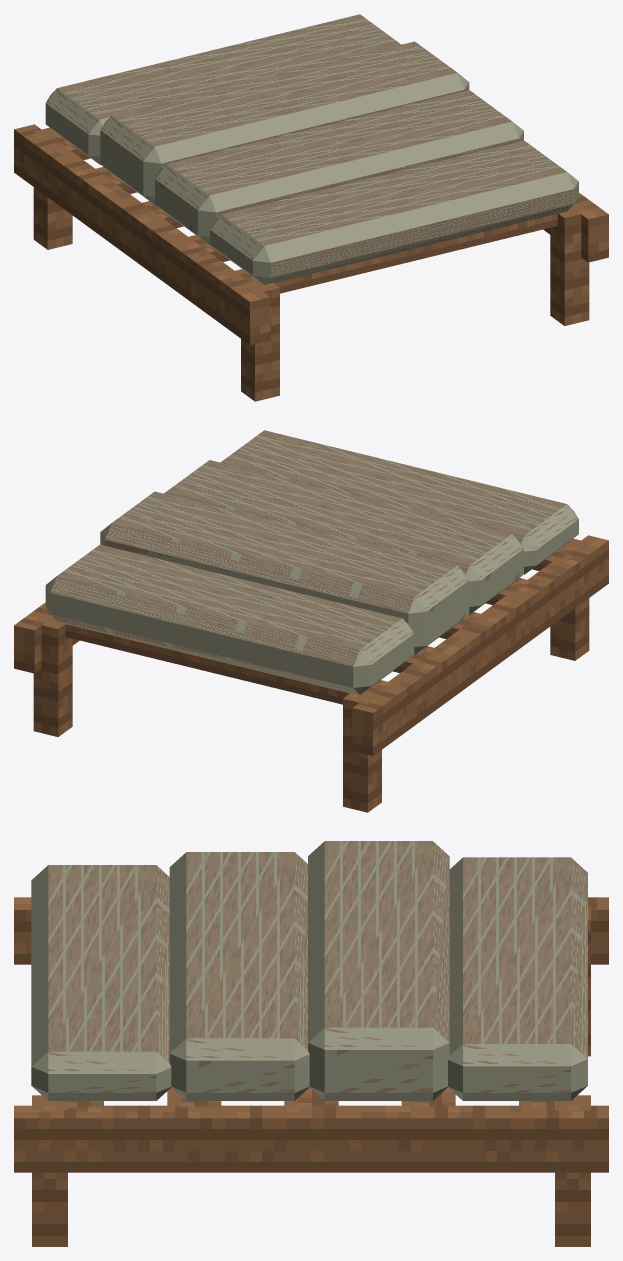
Rendered from f_makeshift_bed.glb.
3 renders of one model, top to bottom at view 1: azimuth 30°, elevation 25°; view 2: azimuth 150°, elevation 25°; view 3: azimuth 270°, elevation 25°, orthographic. The views are drawn at different scales.
Visible parts, largest first — view 1: block_stuffed-mattress-section (×4), block_side-rail-0--0.41, block_leg-0.375-0.435, block_slat-0-0.39, block_leg--0.375-0.435, block_leg--0.375--0.435, block_side-rail-0-0.41; view 2: block_stuffed-mattress-section (×4), block_side-rail-0--0.41, block_slat-0--0.39, block_leg-0.375--0.435, block_leg--0.375--0.435, block_leg--0.375-0.435, block_side-rail-0-0.41; view 3: block_stuffed-mattress-section (×4), block_side-rail-0-0.41, block_leg-0.375--0.435, block_leg-0.375-0.435, block_side-rail-0--0.41, block_slat-0-0, block_slat-0--0.195, block_slat-0-0.195.
Boxes of the visible parts, x1=… form: block_stuffed-mattress-section (×4): x1=45, y1=14, x2=578, y2=284; block_side-rail-0--0.41: x1=14, y1=124, x2=270, y2=344; block_leg-0.375-0.435: x1=550, y1=209, x2=589, y2=325; block_slat-0-0.39: x1=235, y1=207, x2=573, y2=293; block_leg--0.375-0.435: x1=241, y1=279, x2=279, y2=401; block_leg--0.375--0.435: x1=33, y1=127, x2=72, y2=249; block_side-rail-0-0.41: x1=543, y1=193, x2=608, y2=262; block_stuffed-mattress-section (×4): x1=45, y1=430, x2=578, y2=694; block_side-rail-0--0.41: x1=352, y1=535, x2=608, y2=755; block_slat-0--0.39: x1=50, y1=617, x2=391, y2=704; block_leg-0.375--0.435: x1=33, y1=618, x2=72, y2=736; block_leg--0.375--0.435: x1=343, y1=690, x2=381, y2=812; block_leg--0.375-0.435: x1=550, y1=538, x2=589, y2=660; block_side-rail-0-0.41: x1=14, y1=602, x2=79, y2=673; block_stuffed-mattress-section (×4): x1=31, y1=841, x2=587, y2=1100; block_side-rail-0-0.41: x1=14, y1=1105, x2=608, y2=1172; block_leg-0.375--0.435: x1=555, y1=1095, x2=590, y2=1246; block_leg-0.375-0.435: x1=32, y1=1095, x2=67, y2=1246; block_side-rail-0--0.41: x1=14, y1=897, x2=608, y2=964; block_slat-0-0: x1=284, y1=1087, x2=338, y2=1108; block_slat-0--0.195: x1=401, y1=1088, x2=455, y2=1108; block_slat-0-0.195: x1=167, y1=1087, x2=221, y2=1108.
Bounding box in the file's own units: 0.87 × 0.385 × 0.99.
Materials: 1 (1 with a texture image).
